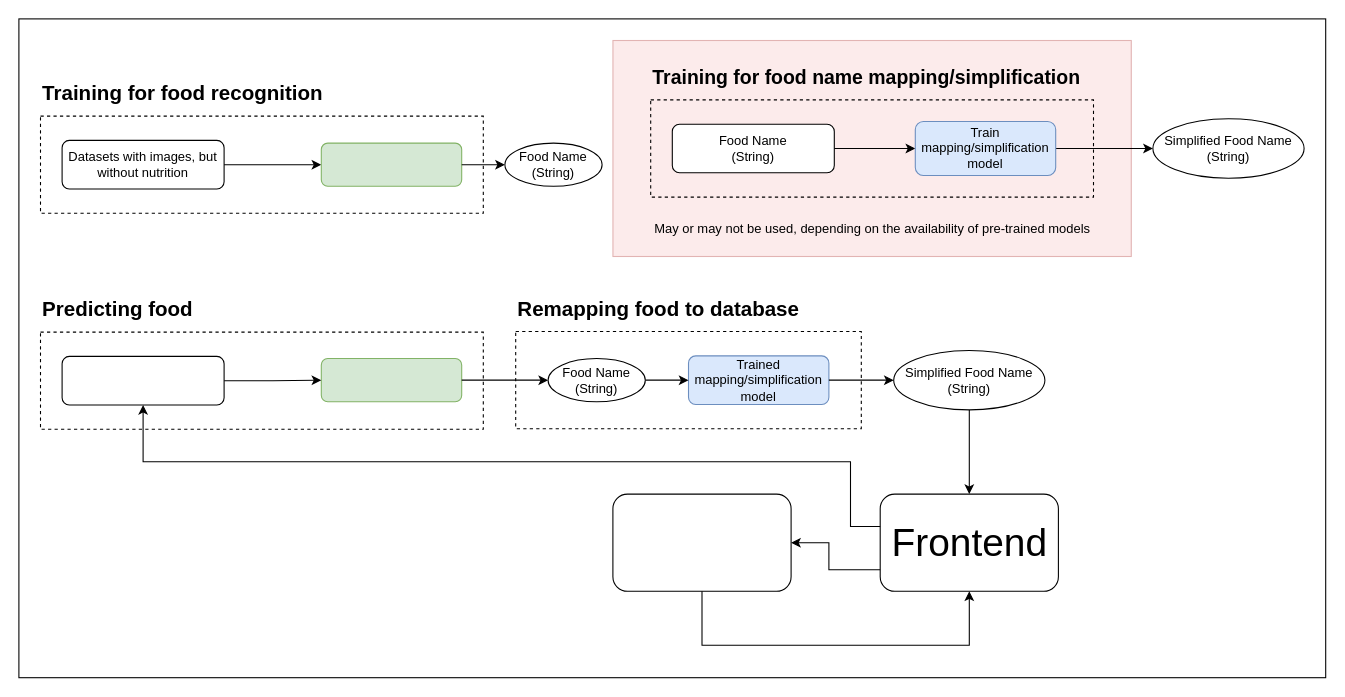
Some shapes in this 1345 by 697 pixel diagram are drawn without their labels. The box of each missing label's shape, as (x1, y1, x2, y2) in pixels:
Database: (612, 493, 791, 591)
Train Recognition Model: (320, 142, 462, 186)
Trained Recognition Model: (320, 357, 462, 402)
User-supplied image: (61, 355, 224, 405)
